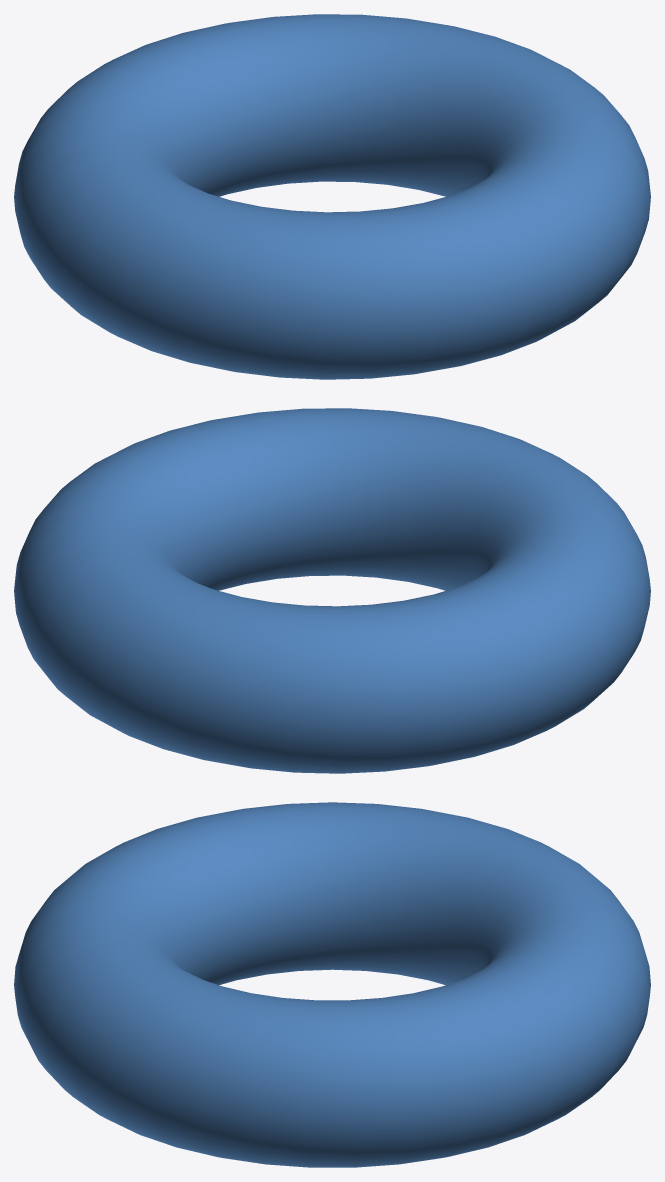
File: BlueRing.dae
3 renders of one model, top to bottom at view 1: azimuth 30°, elevation 25°; view 2: azimuth 150°, elevation 25°; view 3: azimuth 270°, elevation 25°, orthographic.
Visible parts, largest first — view 1: ID2; view 2: ID2; view 3: ID2.
Part boxes in pixels (box(x1,y1,x2,y2)): ID2: box(14, 14, 650, 379); ID2: box(14, 408, 650, 773); ID2: box(14, 802, 650, 1167).
Size of the model in its own units: 0.1206 by 0.1206 by 0.0317.
